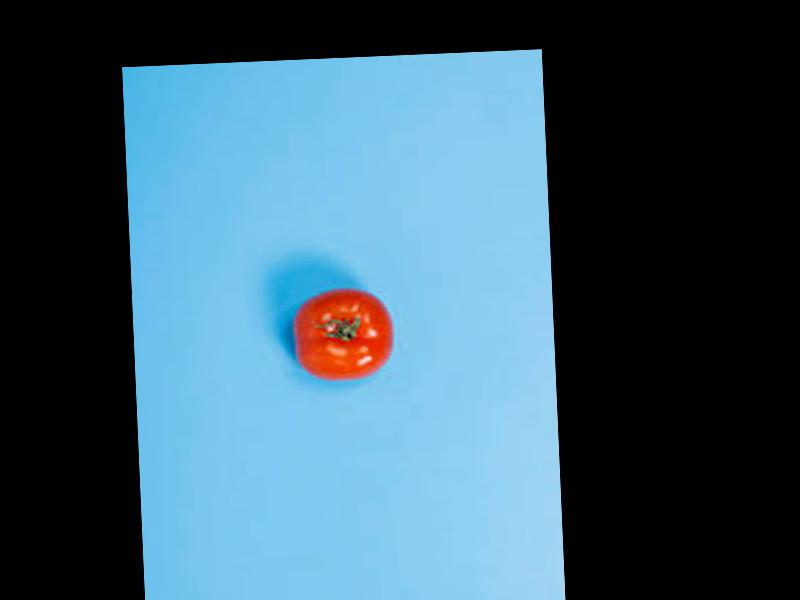Tomato: (292, 283, 397, 381)
